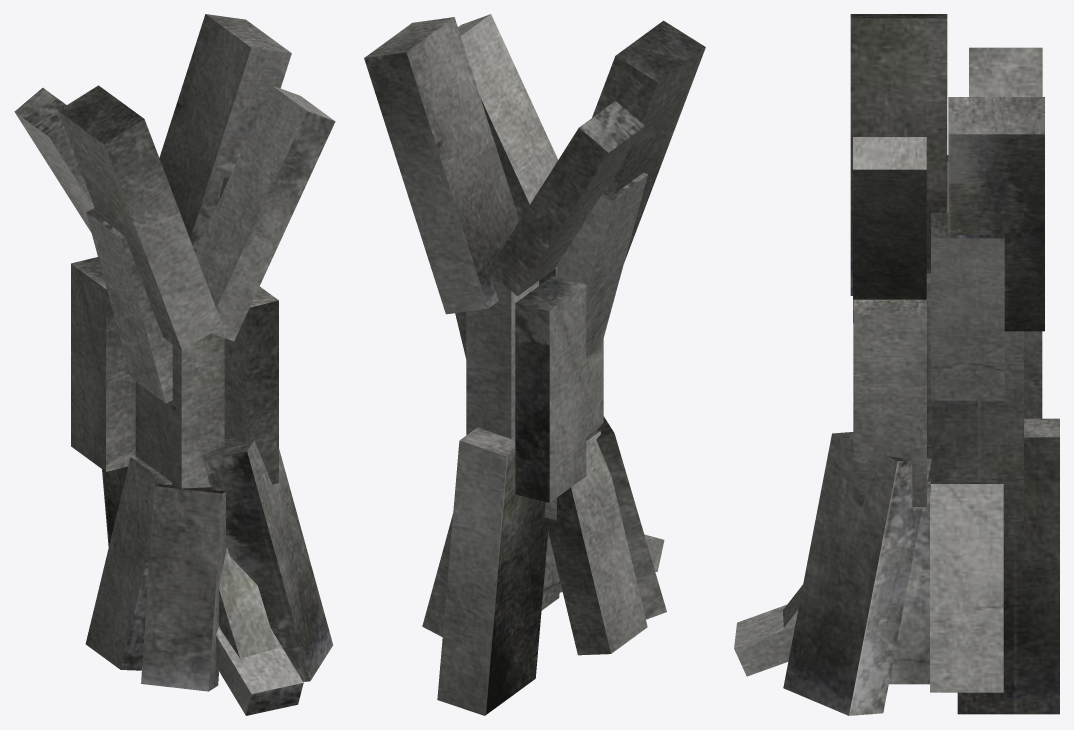
Rendered from R1_Peninsula.obj.
3 views of the same model, side by side, from view 1: azimuth 30°, elevation 25°; view 2: azimuth 150°, elevation 25°; view 3: azimuth 270°, elevation 25° (orthographic). The views are drawn at different scales.
Visible parts, largest first — view 1: Cube; view 2: Cube; view 3: Cube.
Boxes of the visible parts, left/top/right/bottom form: Cube: left=14, top=14, right=335, bottom=715; Cube: left=364, top=14, right=705, bottom=715; Cube: left=734, top=14, right=1059, bottom=715.
Bounding box in the file's own units: 2.69 × 6.69 × 3.08.
1 material, 1 textured.
